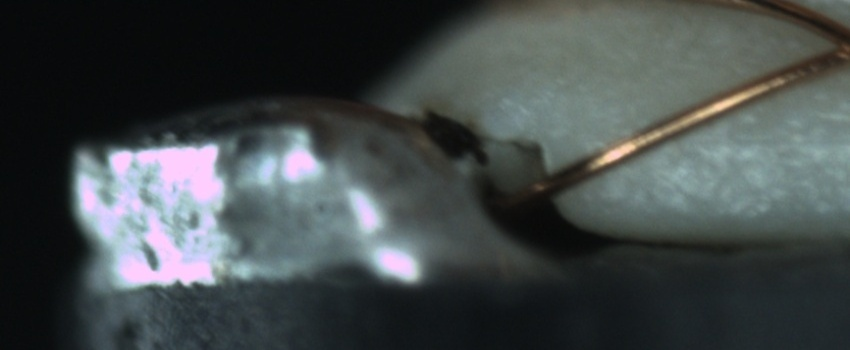CL: (804, 11, 850, 79)
DL: (681, 109, 849, 173)
